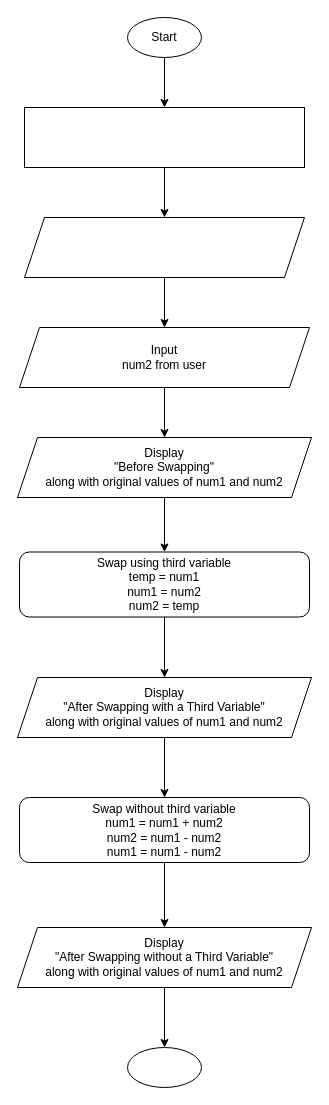
This 329x1105 diagram has some shape labels left out. The shapes that lost their labels are listed below. From the top down, each one's centre as x and y in pixels, then its label:
At (x=164, y=137): "Declare num1, num2, temp".
At (x=164, y=247): "Input num1 from user".
At (x=164, y=1067): "Stop".
